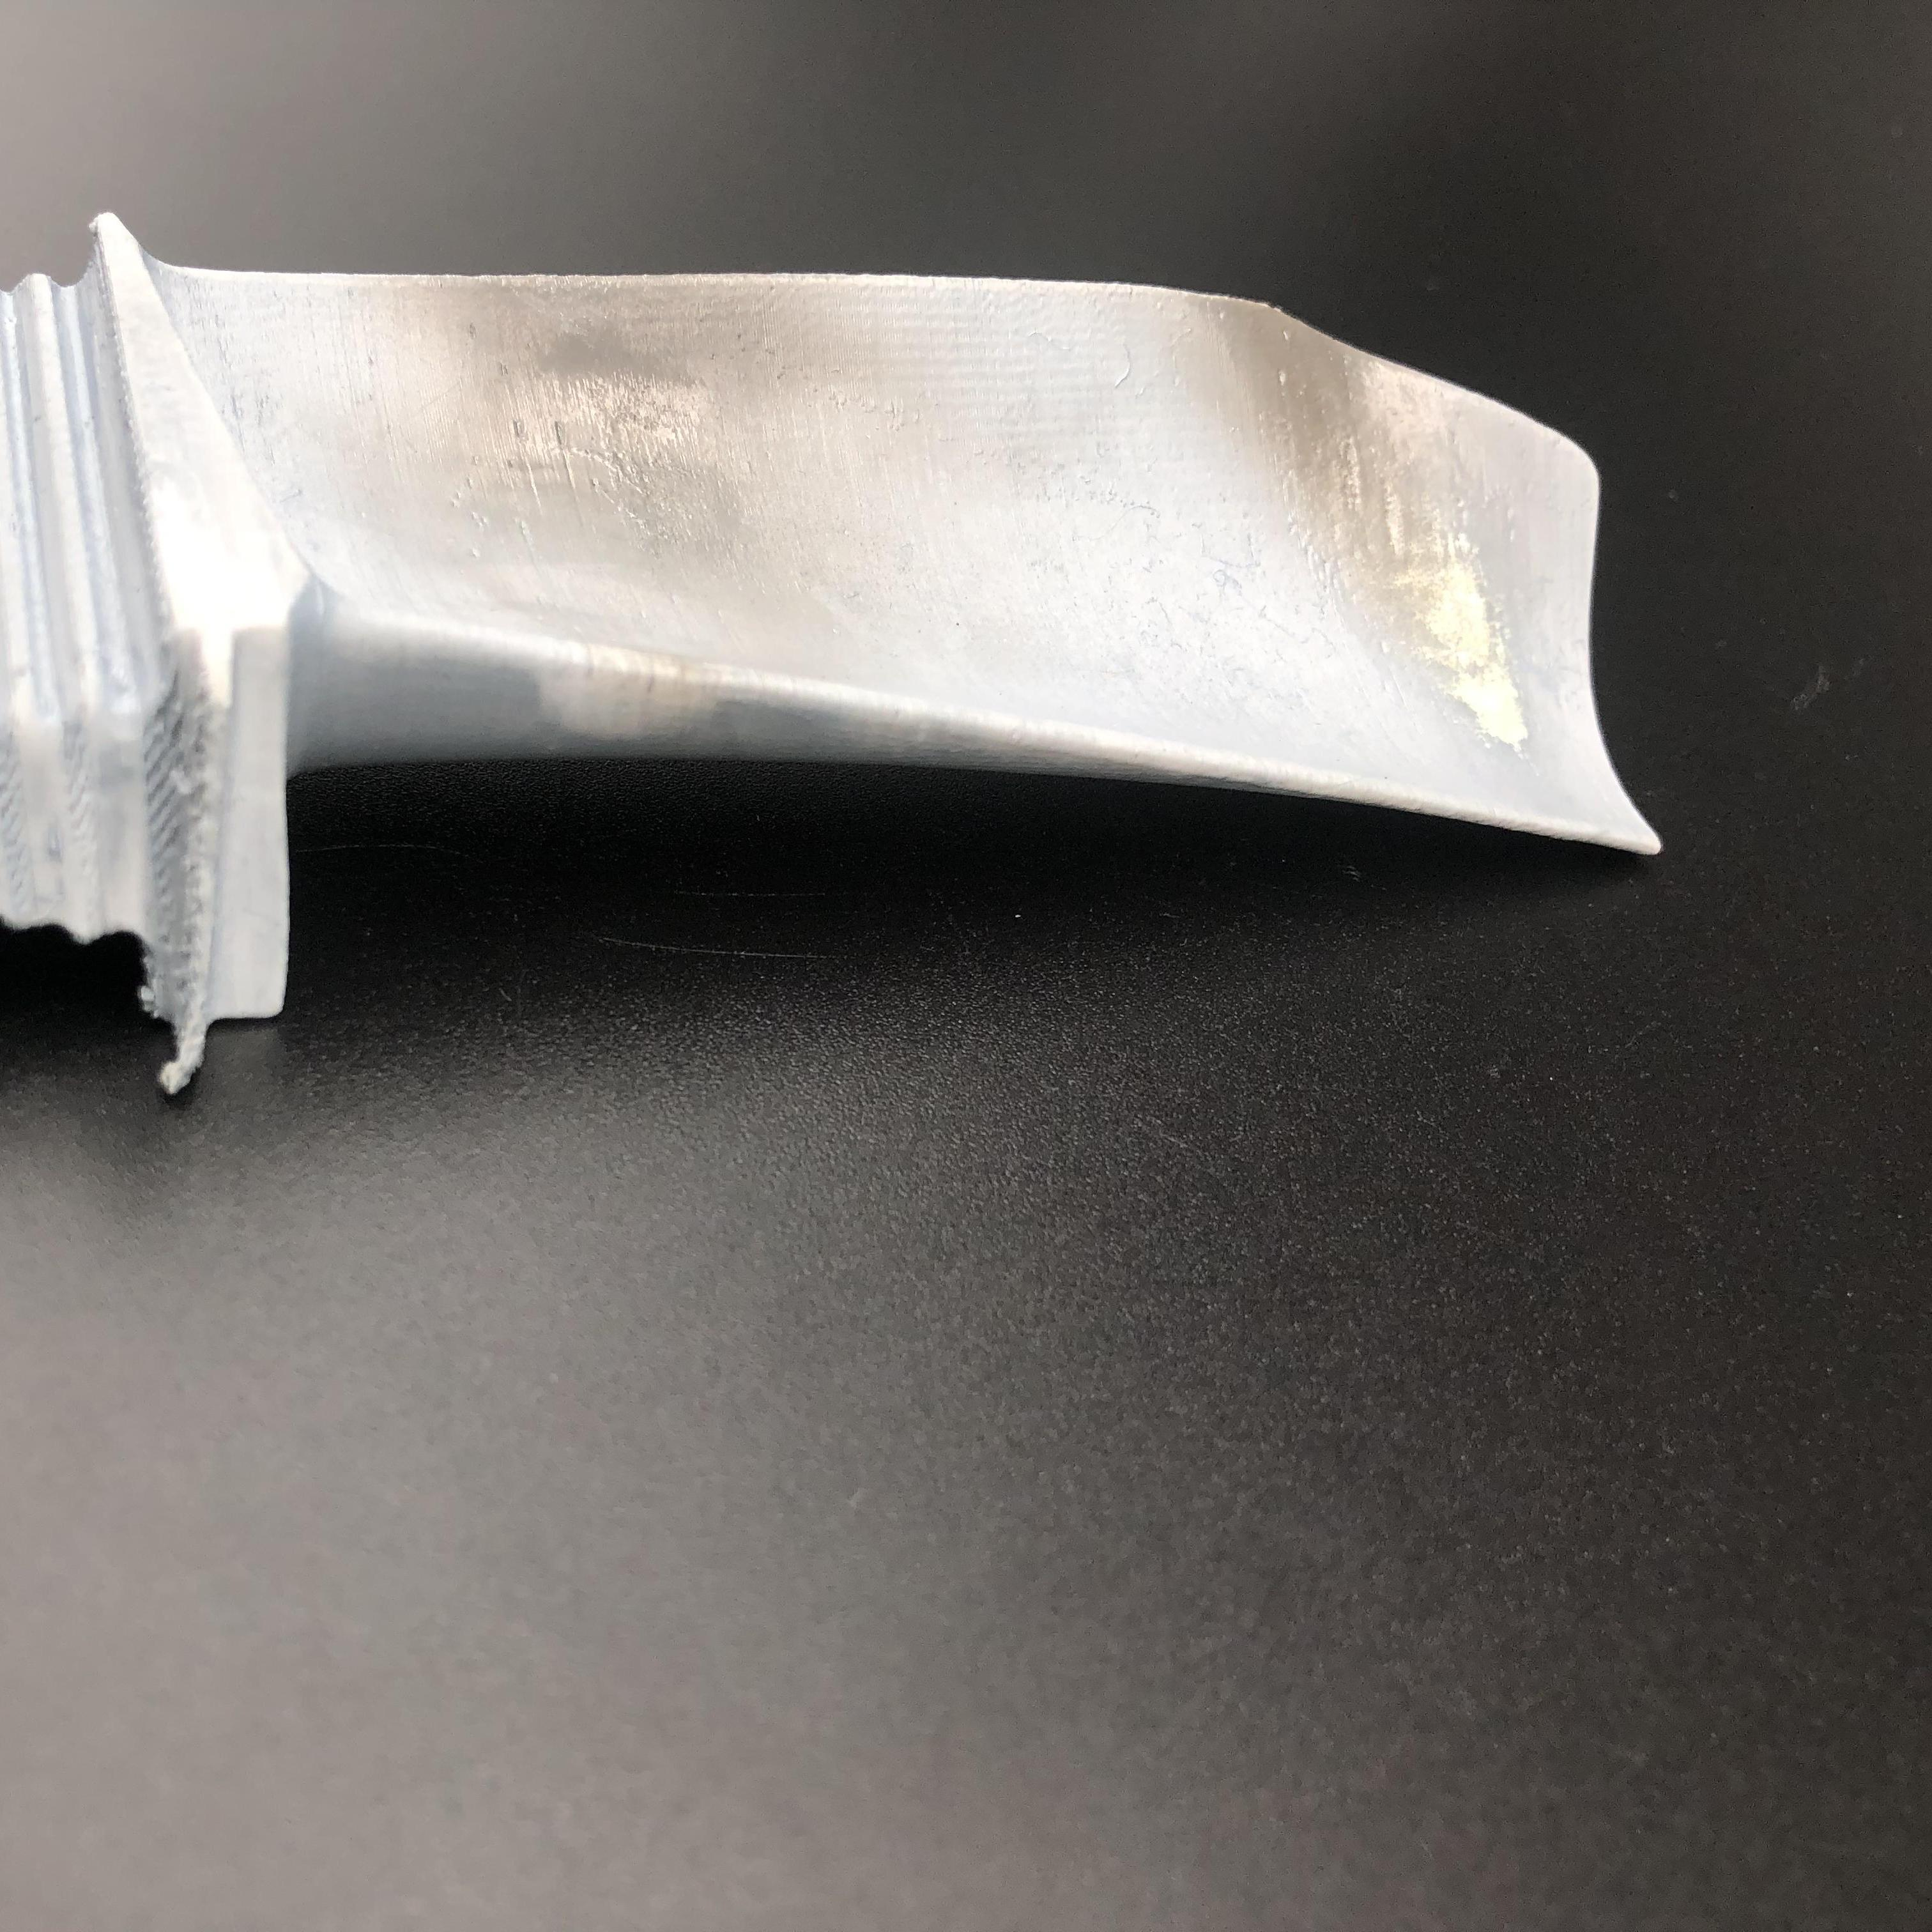ablation: (451, 278, 888, 688), (1207, 299, 1557, 748)
